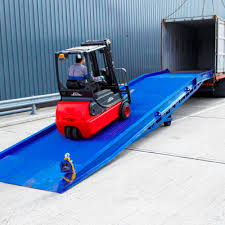Pallet Jack: (51, 38, 136, 140)
Yard Ramp: (1, 70, 214, 196)
